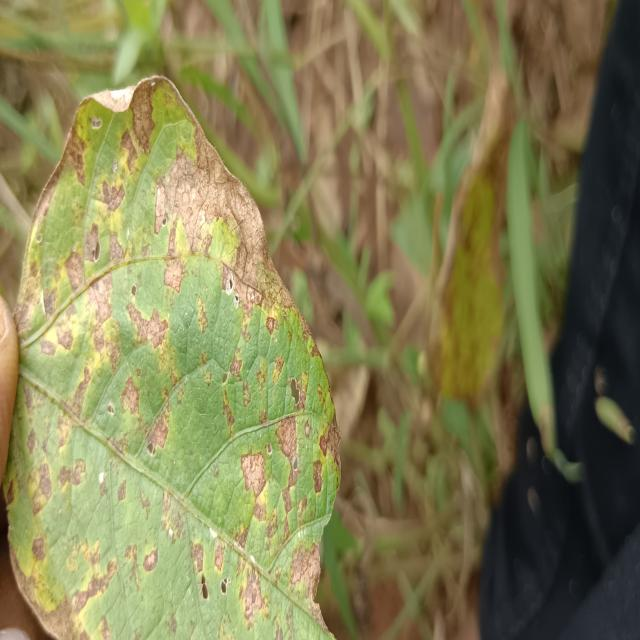Black gram_leaf spot: (21, 65, 343, 640)
